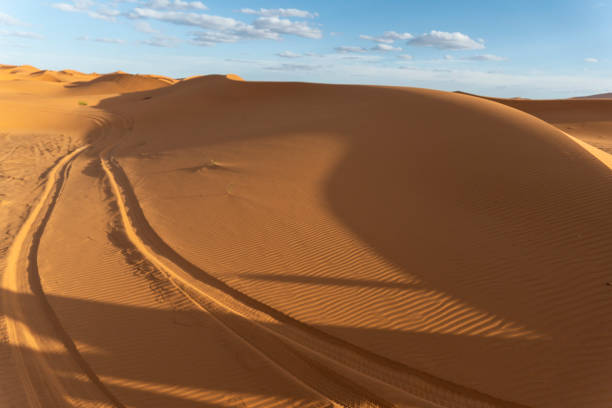vehicle_track: (100, 149, 523, 407), (1, 145, 121, 406)
